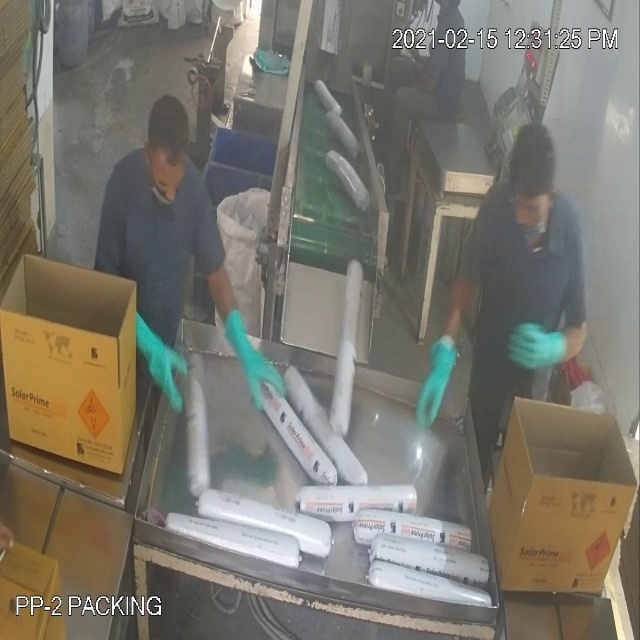Guantes: (110, 285, 195, 428), (208, 293, 289, 418), (404, 309, 469, 445), (503, 309, 576, 388)
